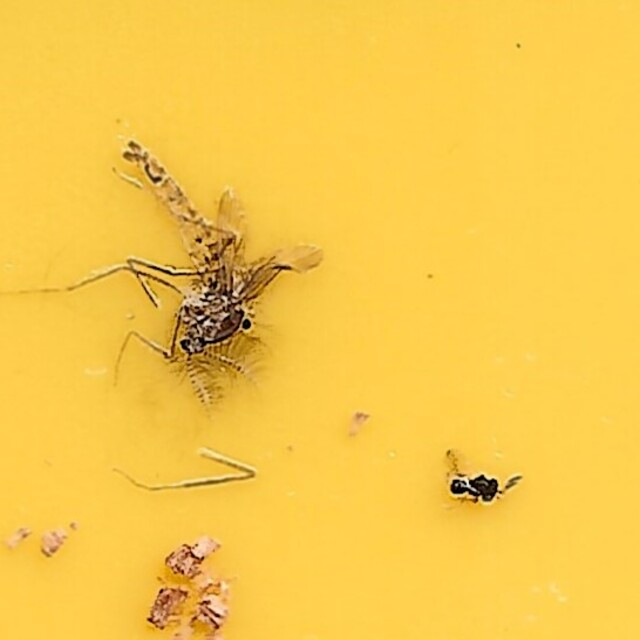Hymenoptera: (441, 442, 523, 514)
Nematocera: (117, 126, 328, 419)
